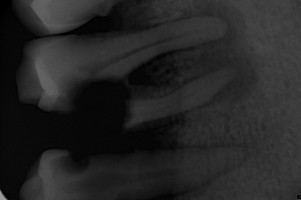Dental Caries: (128, 0, 259, 103)
